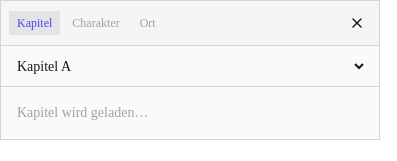
Test: ignores a late response after a different reference was selected
Select "Kapitel B" in the dropdown at (190, 66), box [13,58,367,75]
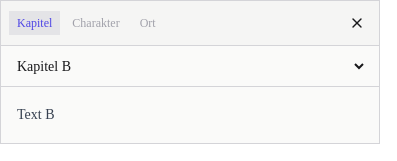
Check: the text "Text B" is shown, box [17,107,54,122]
